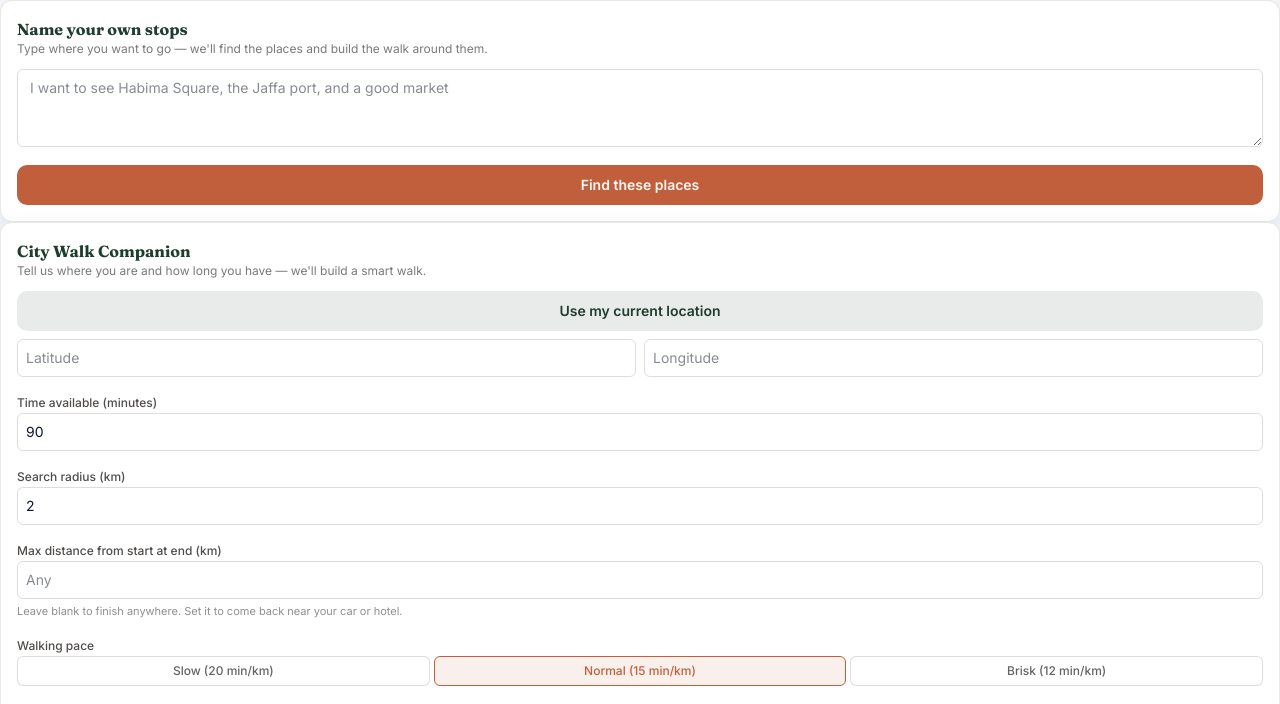
Test: a finish distance stated in the prompt › overwrites a distance the walker typed, as a starting value not a lock
Replace the text in the text box with placeholder "I want to see Habima Square, the Jaffa port, and a good market" with "finish within 1km of here" at [640, 108], box [17,69,1263,147]
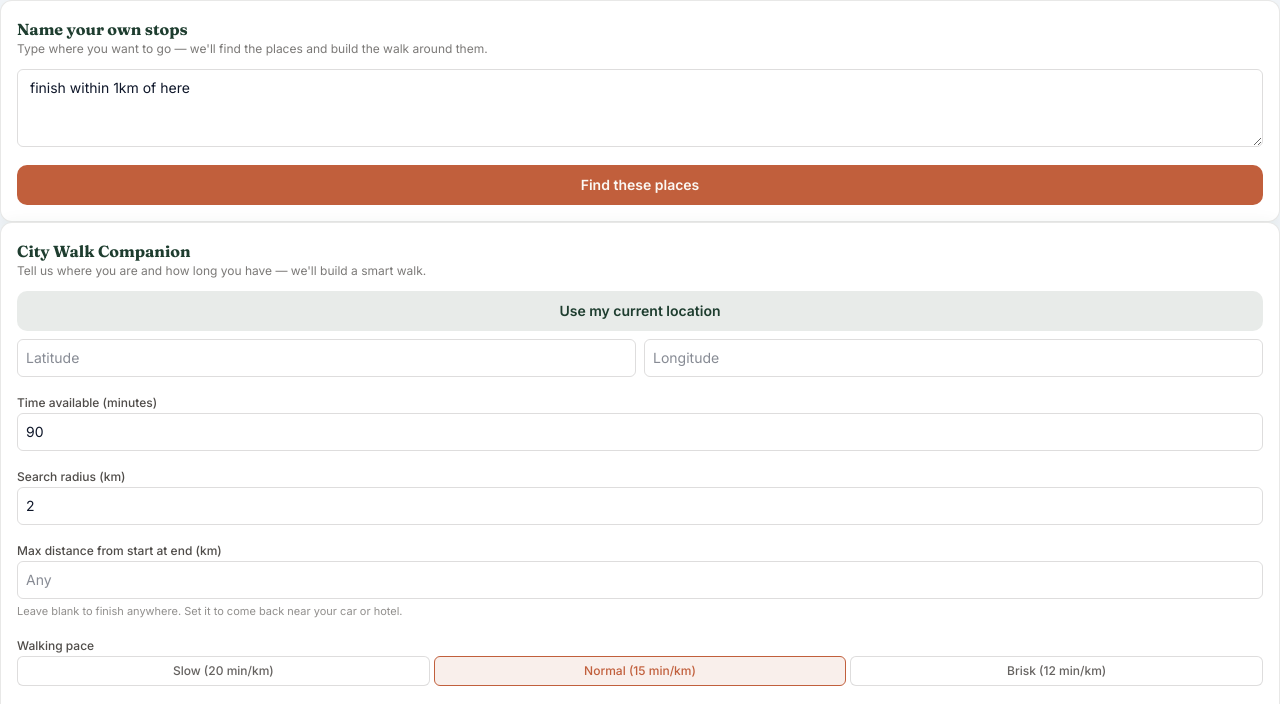
Click the button "Find these places" at [640, 185], box [17,165,1263,205]
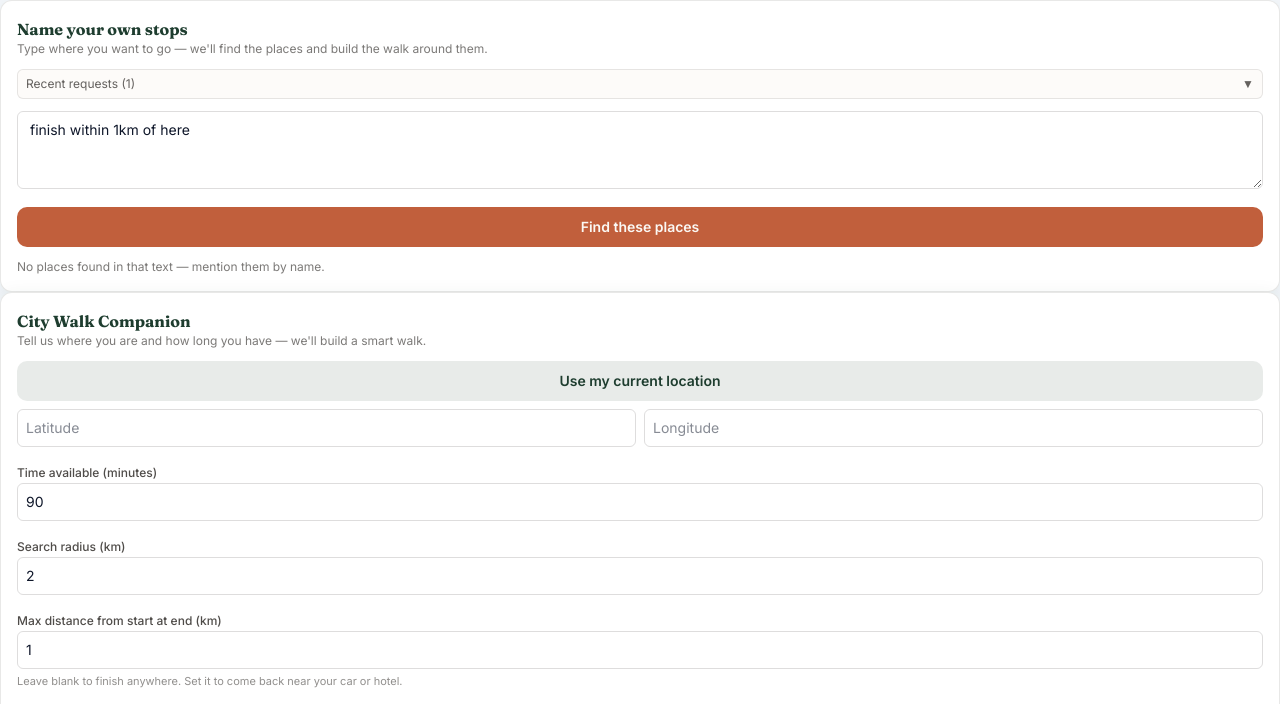
expect the number field with placeholder "Any" below "Max distance from start at end (km)" holds "1": met
Replace the text in the number field with placeholder "Any" below "Max distance from start at end (km)" with "3" at [640, 650], box [17,631,1263,669]
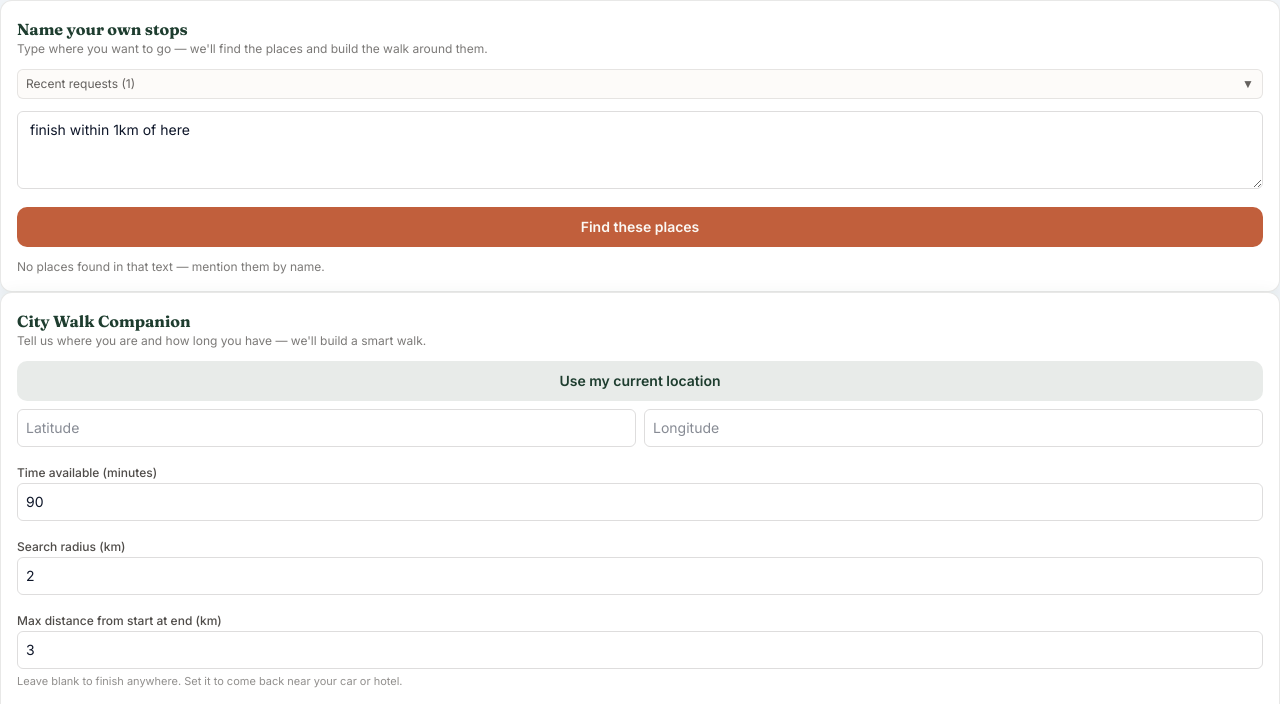
Replace the text in the text box with placeholder "I want to see Habima Square, the Jaffa port, and a good market" with "actually keep it within 500m of my start" at [640, 150], box [17,111,1263,189]
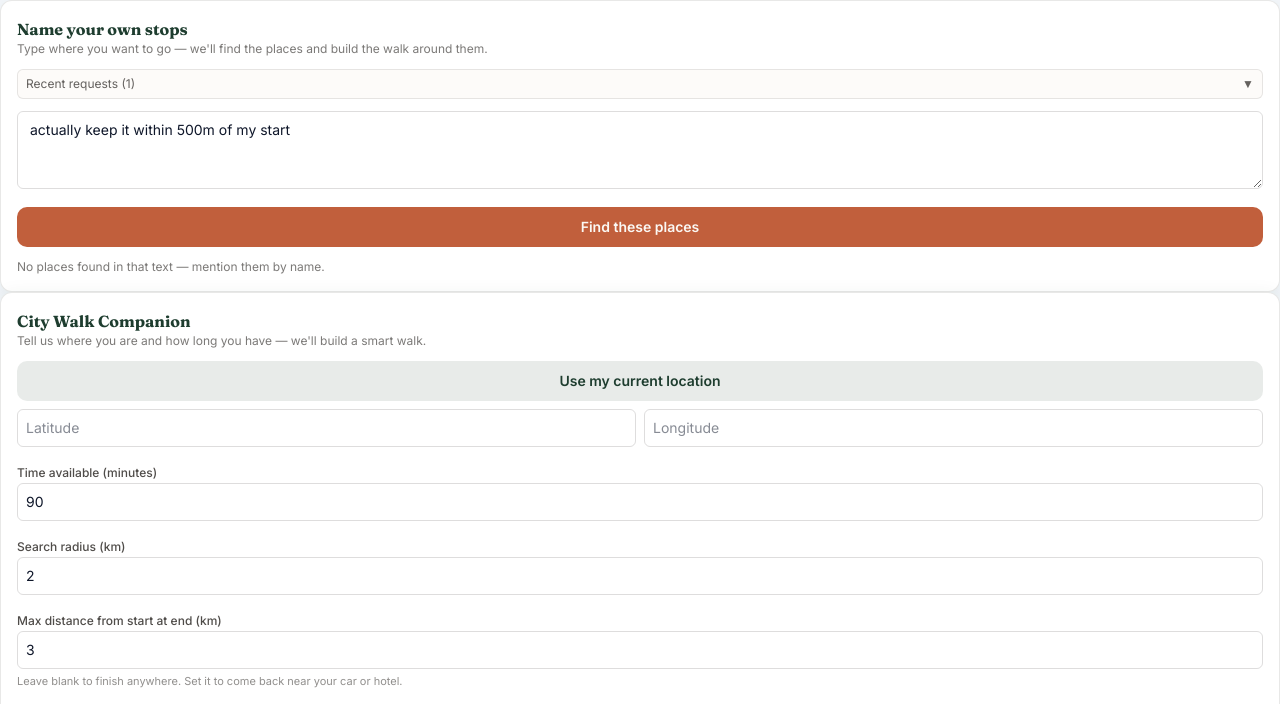
Click the button "Find these places" at [640, 227], box [17,207,1263,247]
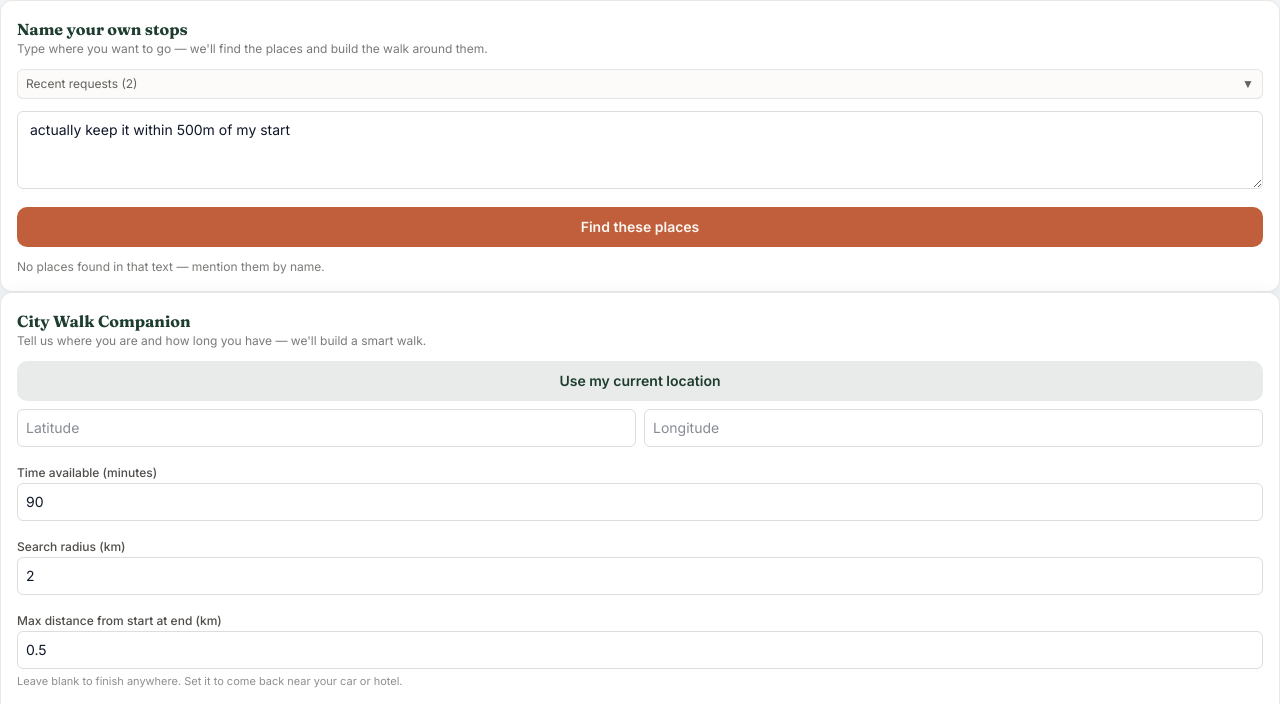
expect the number field with placeholder "Any" below "Max distance from start at end (km)" holds "0.5": met, box [17,631,1263,669]
